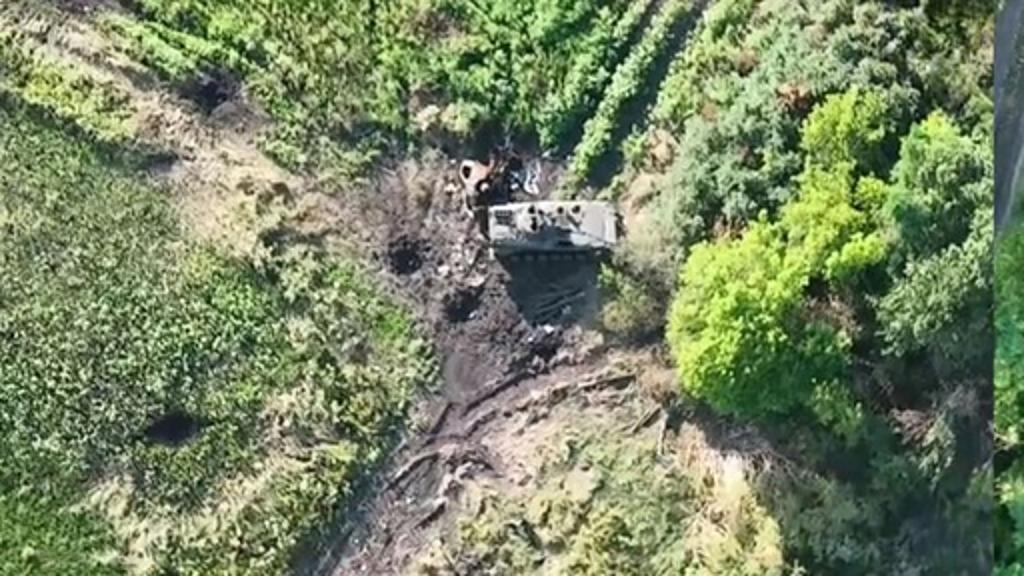APC-IFV: (480, 188, 626, 264)
